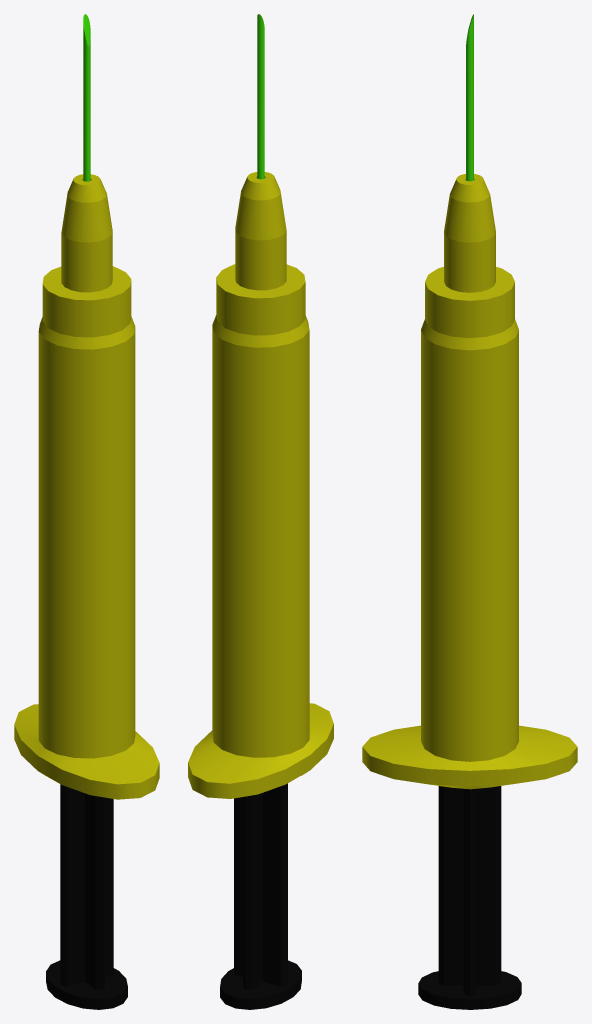
Rendered from Stim.fbx.
The picture shows the model from 3 angles, left to right: view 1: azimuth 30°, elevation 25°; view 2: azimuth 150°, elevation 25°; view 3: azimuth 270°, elevation 25°; orthographic projection.
Visible parts, largest first — view 1: Stim; view 2: Stim; view 3: Stim.
Part boxes in pixels (x1,y1,x2,y2): Stim: (14, 14, 159, 1009); Stim: (188, 14, 333, 1009); Stim: (362, 14, 577, 1009).
Size of the model in its own units: 2.33 by 22.02 by 4.38.
